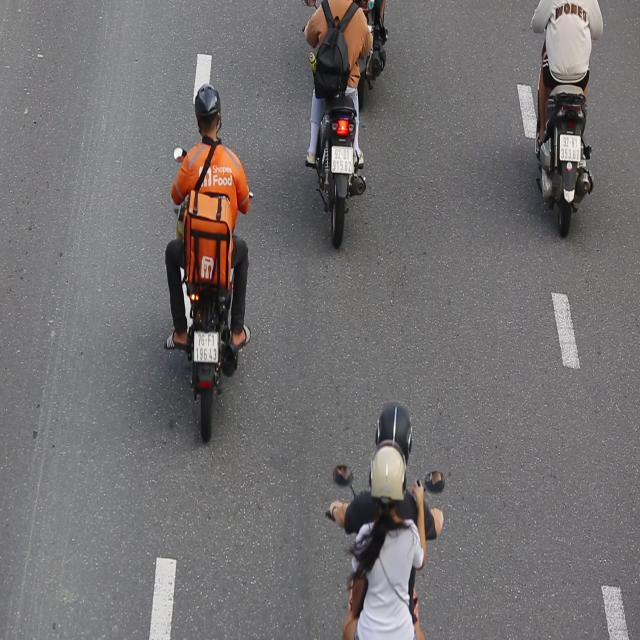motorbike: (159, 73, 257, 451)
